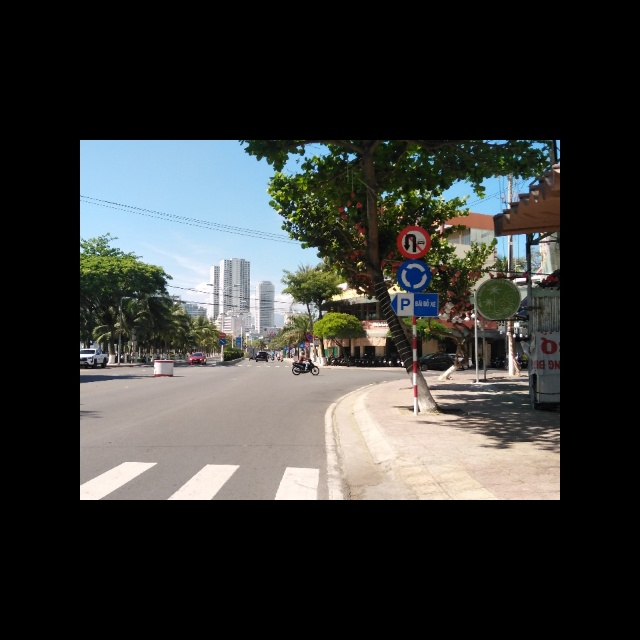Cấm xe ô tô quay đầu: (397, 225, 430, 259)
Nơi giao nhau chạy theo vòng xuyến: (397, 258, 431, 293)
Nơi đỗ xe: (387, 294, 439, 319)
